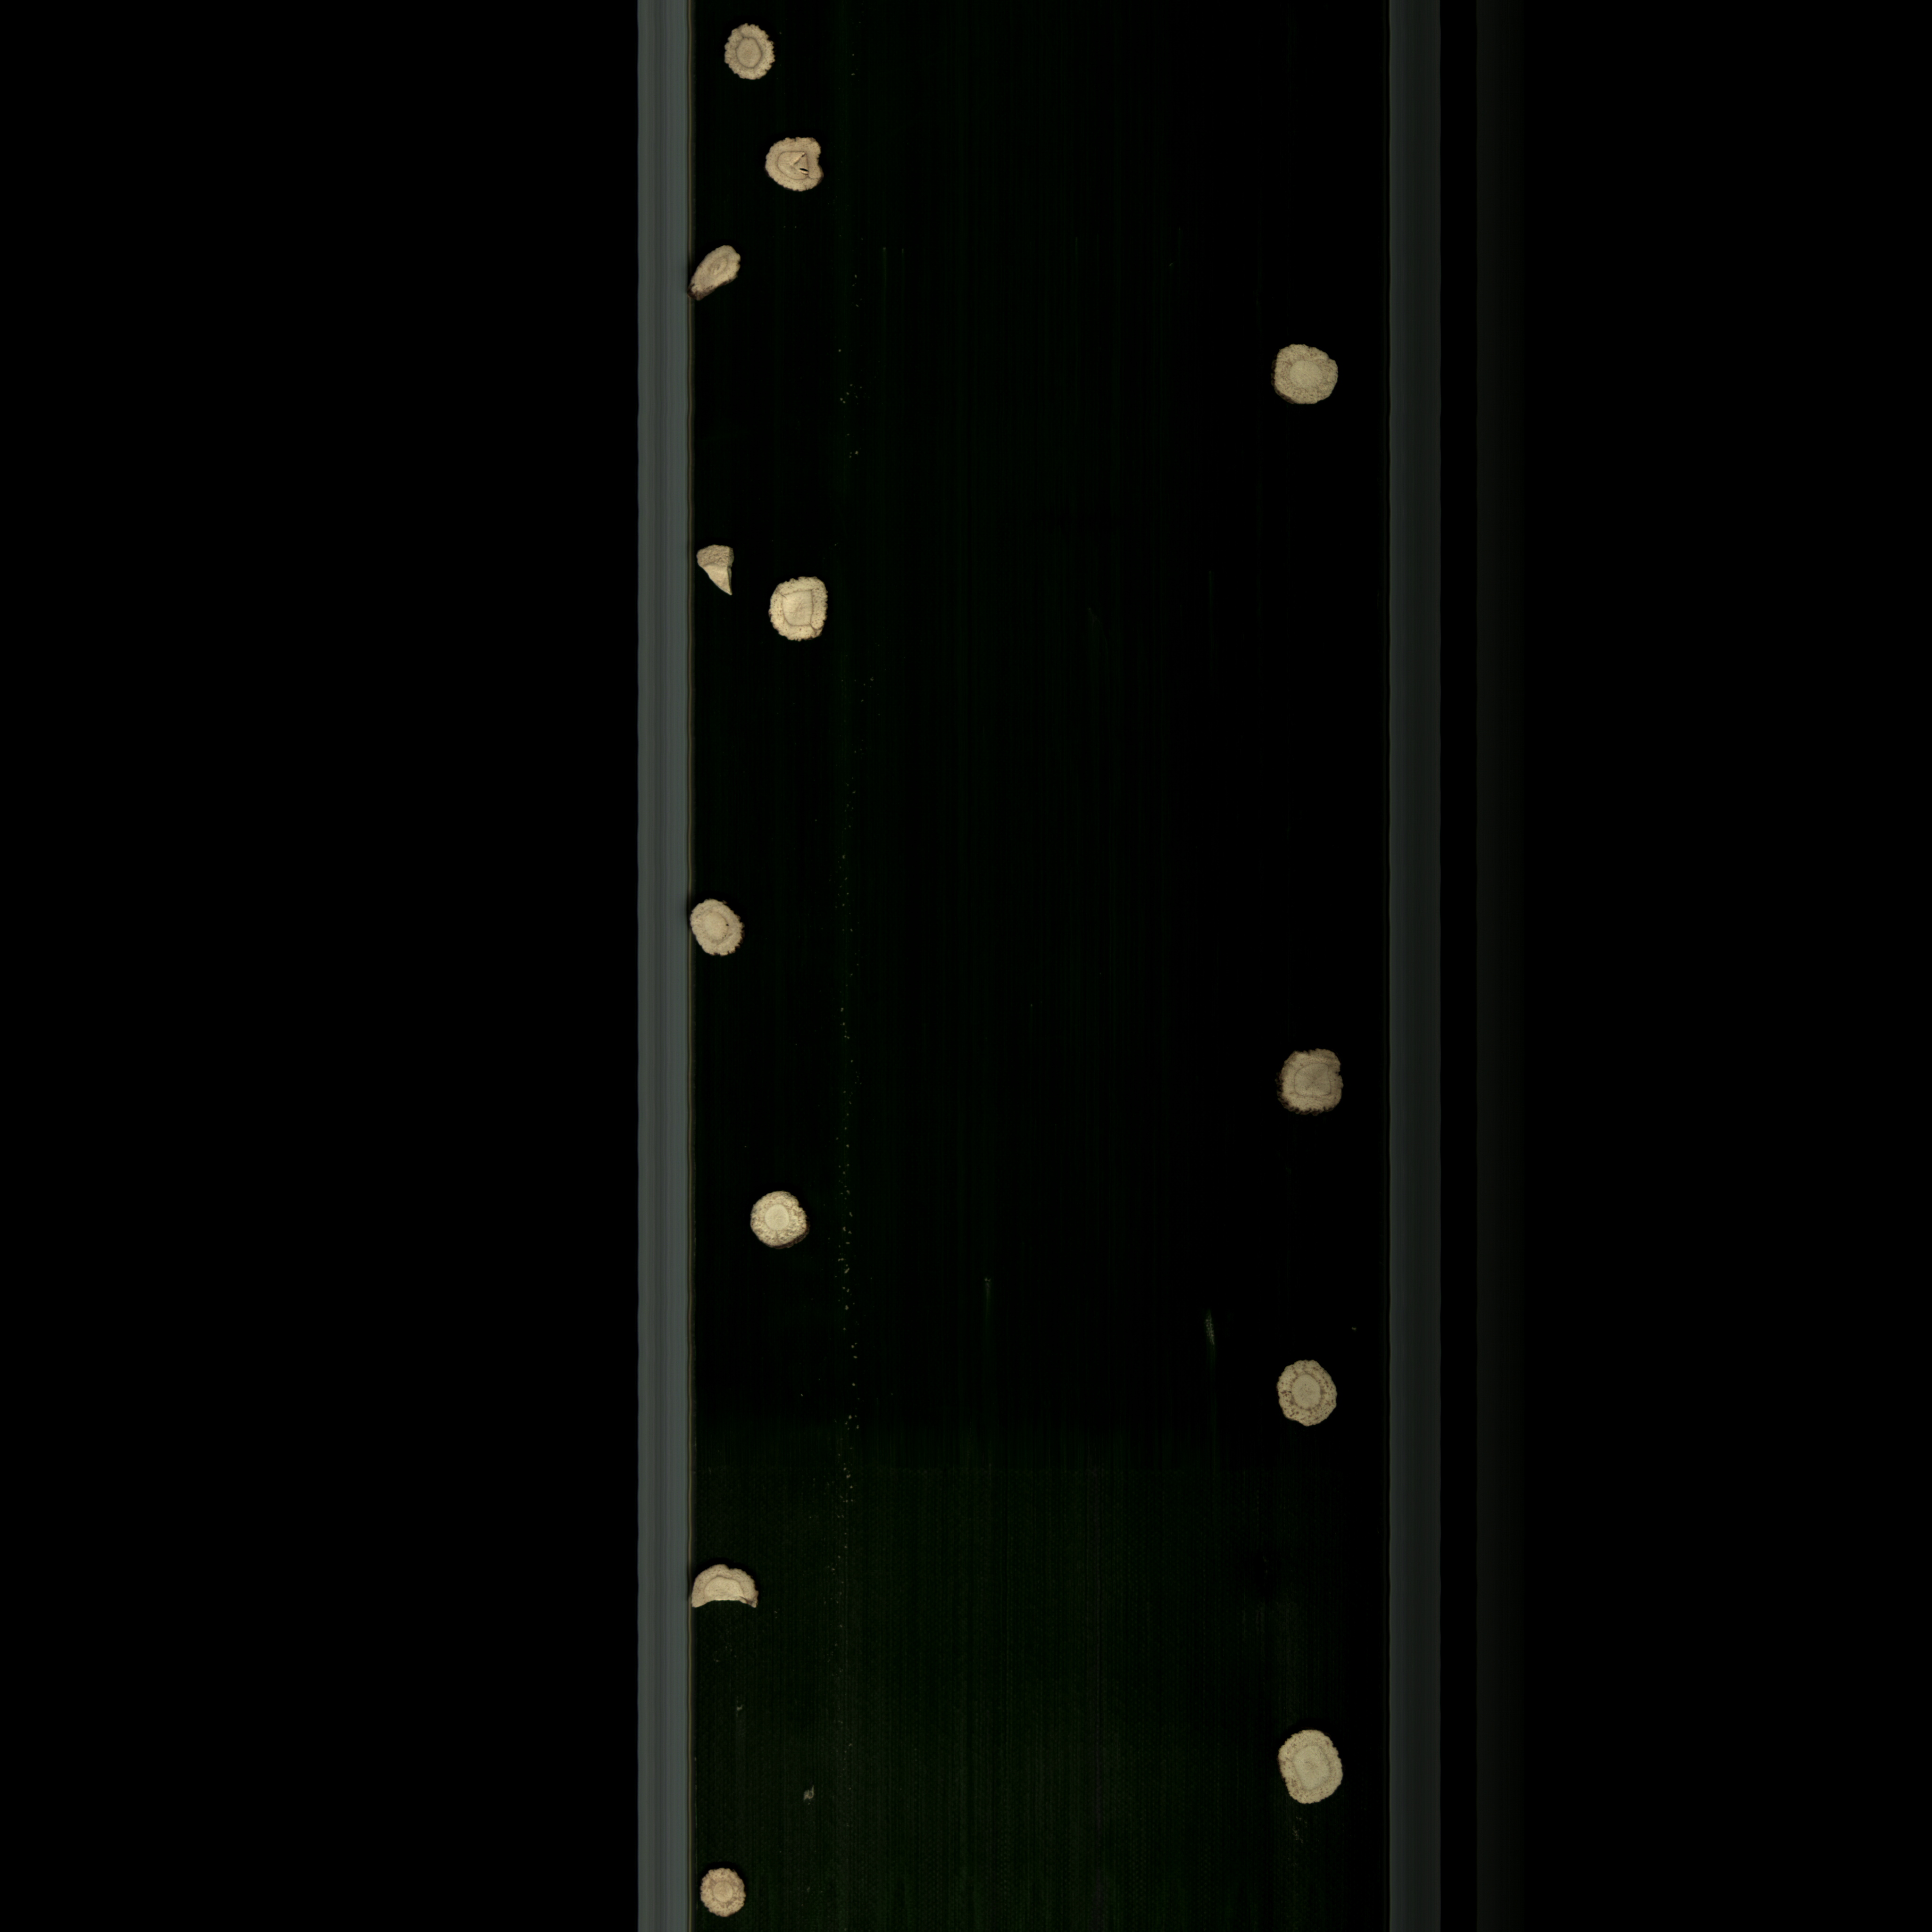debris: (690, 1566, 770, 1617)
distortion: (759, 573, 840, 648), (1270, 1046, 1348, 1122), (685, 242, 750, 313)
dreg: (692, 540, 741, 603)
hole: (754, 133, 832, 202)
moldy: (1267, 1350, 1346, 1440), (715, 18, 786, 94), (701, 1867, 750, 1921)
